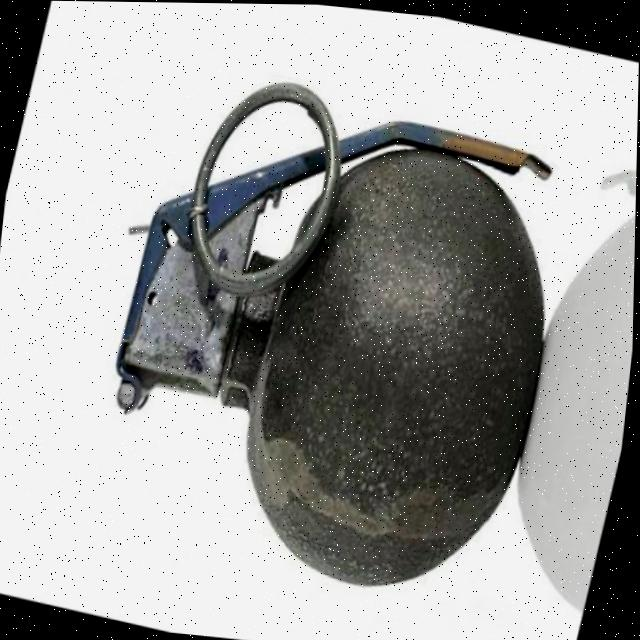grenade: (69, 30, 608, 614)
